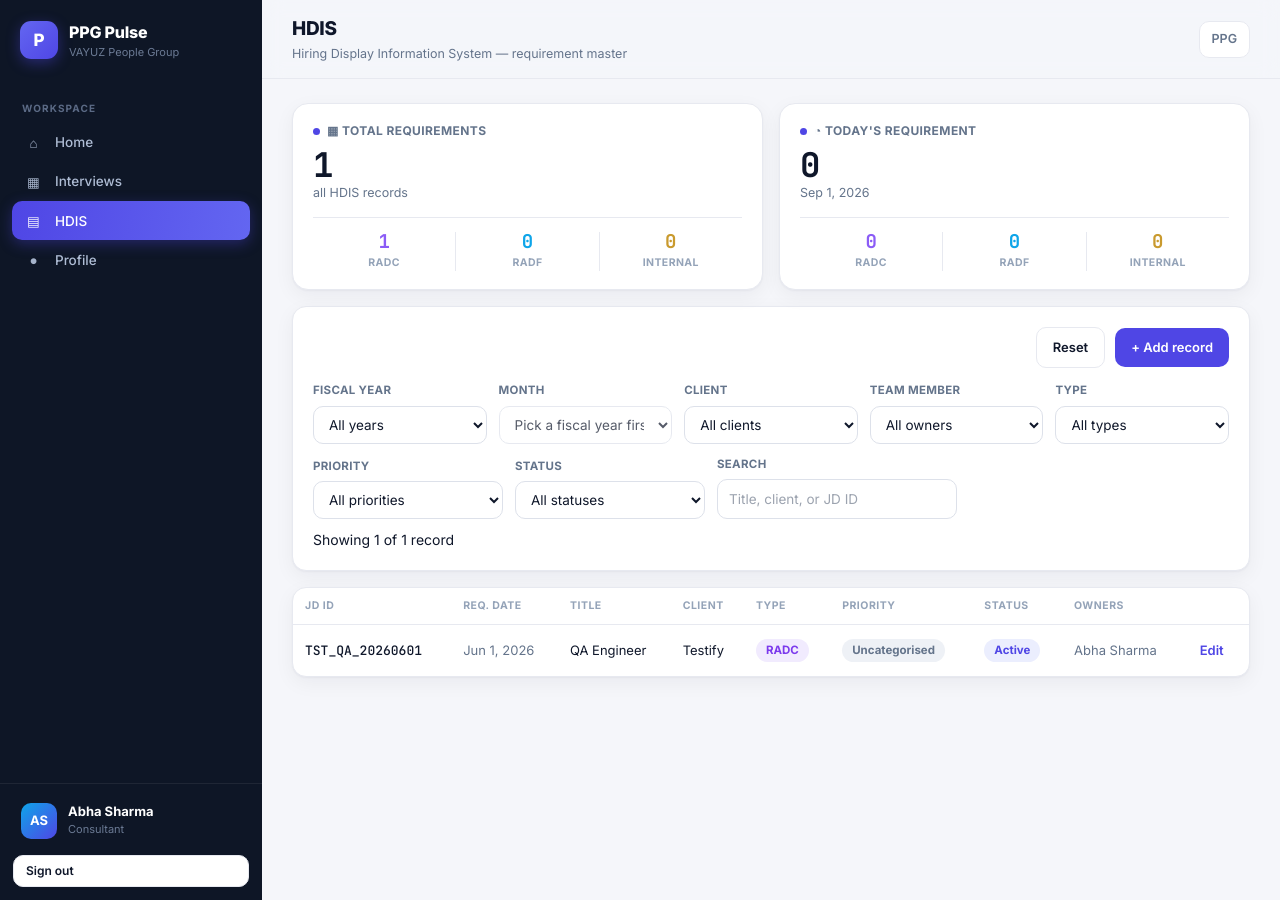
Test: HDIS list (T10.1) › lets a consultant add a record for their own JD, pre-owned by themselves
The width and height of the screenshot is (1280, 900).
expect the text "QA Engineer" is shown: met, box [558,624,671,676]
Click the button "+ Add record": [1172, 348] box [1115,328,1229,367]
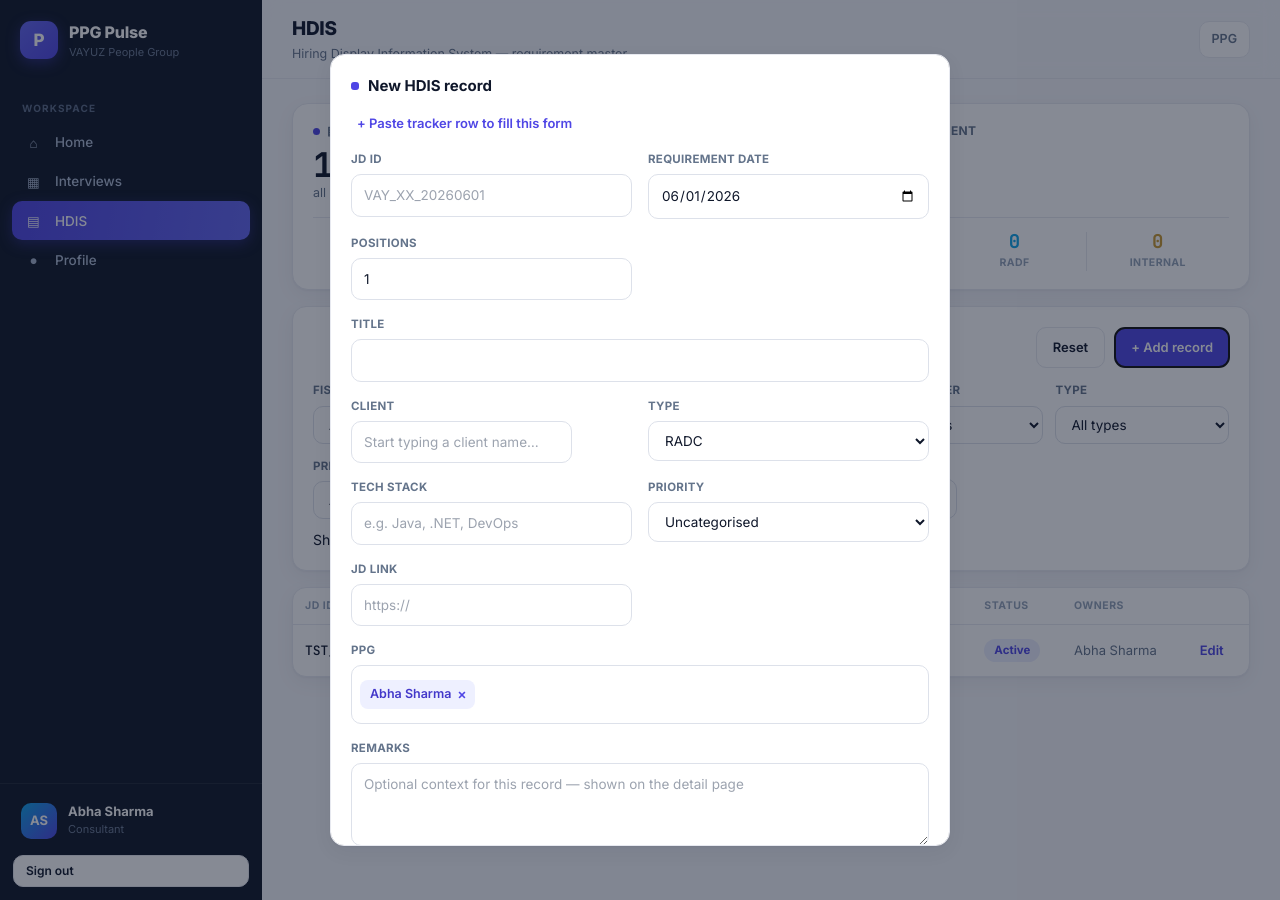
expect the text "Abha Sharma" is shown: met, box [370,686,451,701]
